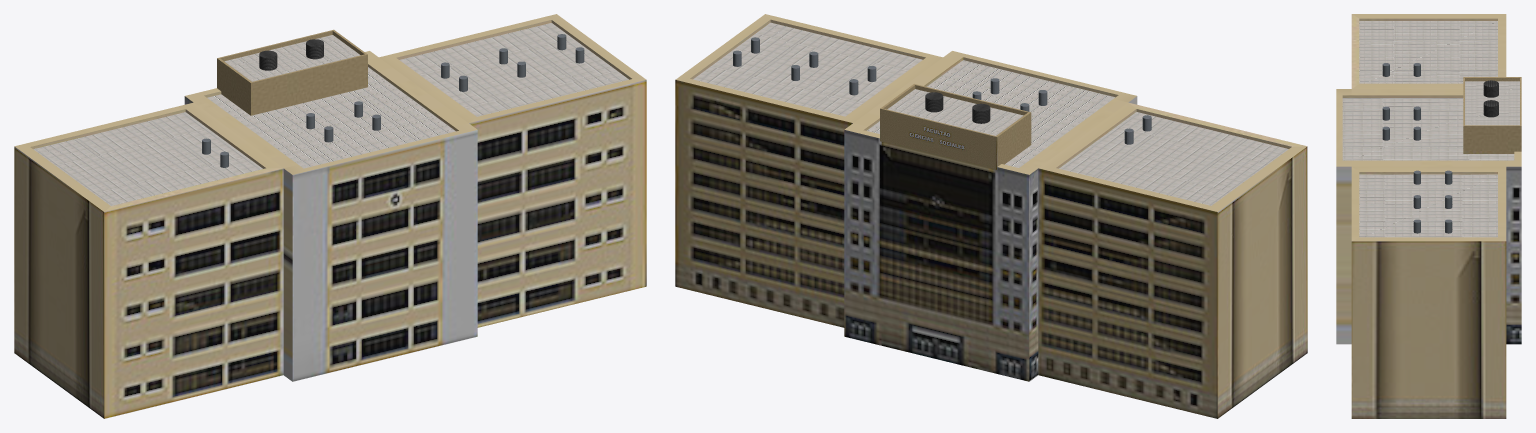
File: edificiotrasero.fbx
3 renders of one model, left to right at view 1: azimuth 30°, elevation 25°; view 2: azimuth 150°, elevation 25°; view 3: azimuth 270°, elevation 25°, orthographic. The views are drawn at different scales.
Visible parts, largest first — view 1: Cube; view 2: Cube; view 3: Cube.
Boxes of the visible parts, x1,y1,x2,y2 form: Cube: (14,14,646,418); Cube: (675,14,1307,418); Cube: (1336,14,1521,418).
Bounding box in the file's own units: 697 × 301 × 240.
Materials: 19 (19 with a texture image).
